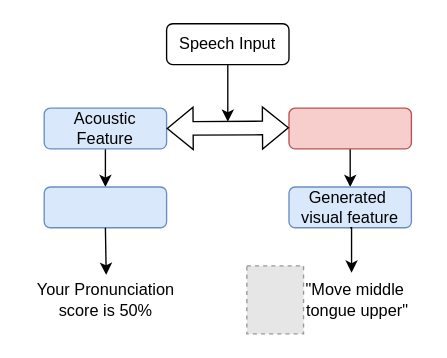
Image size: 447x358. Some labels were removed from this diagram. Grey dashed boxes stand in for pictures. Each missing label, with the centre of its shape:
Phoneme: pixel 105 207
rtMRI: pixel 349 128
